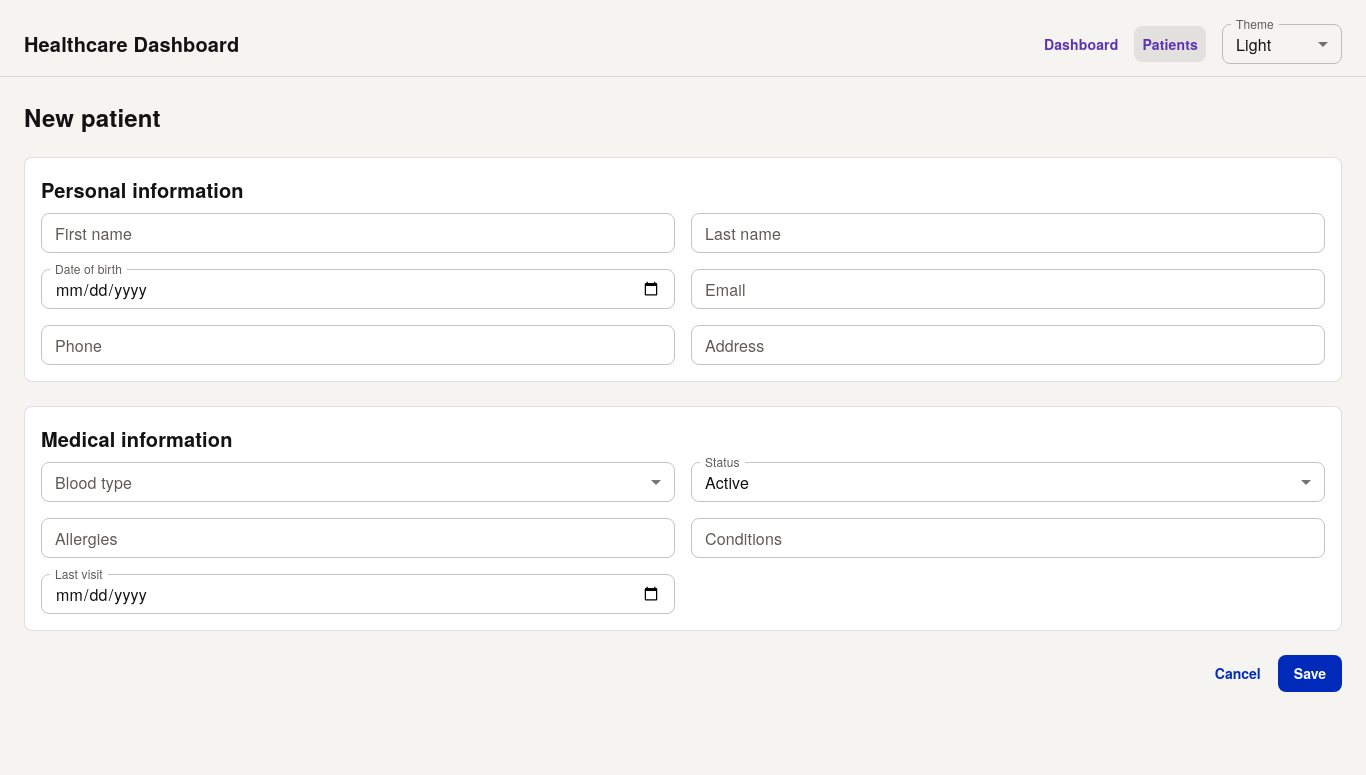
PatientForm › shows validation errors without submitting
This screenshot has width=1366, height=775.
Type "2999-01-01" into the date field labelled "Last visit" at (358, 594), box [41,574,675,614]
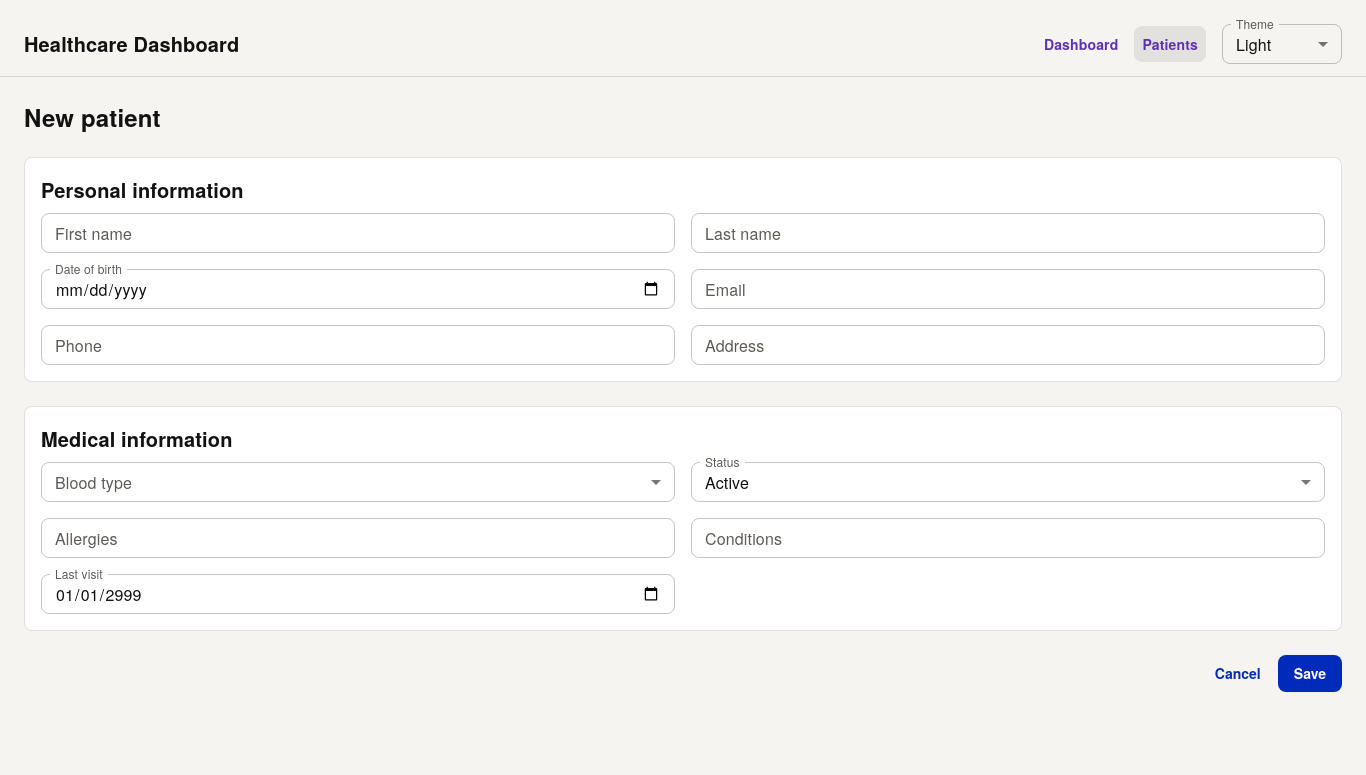
Click the button "Save" at (1310, 673), box [1278,655,1342,692]
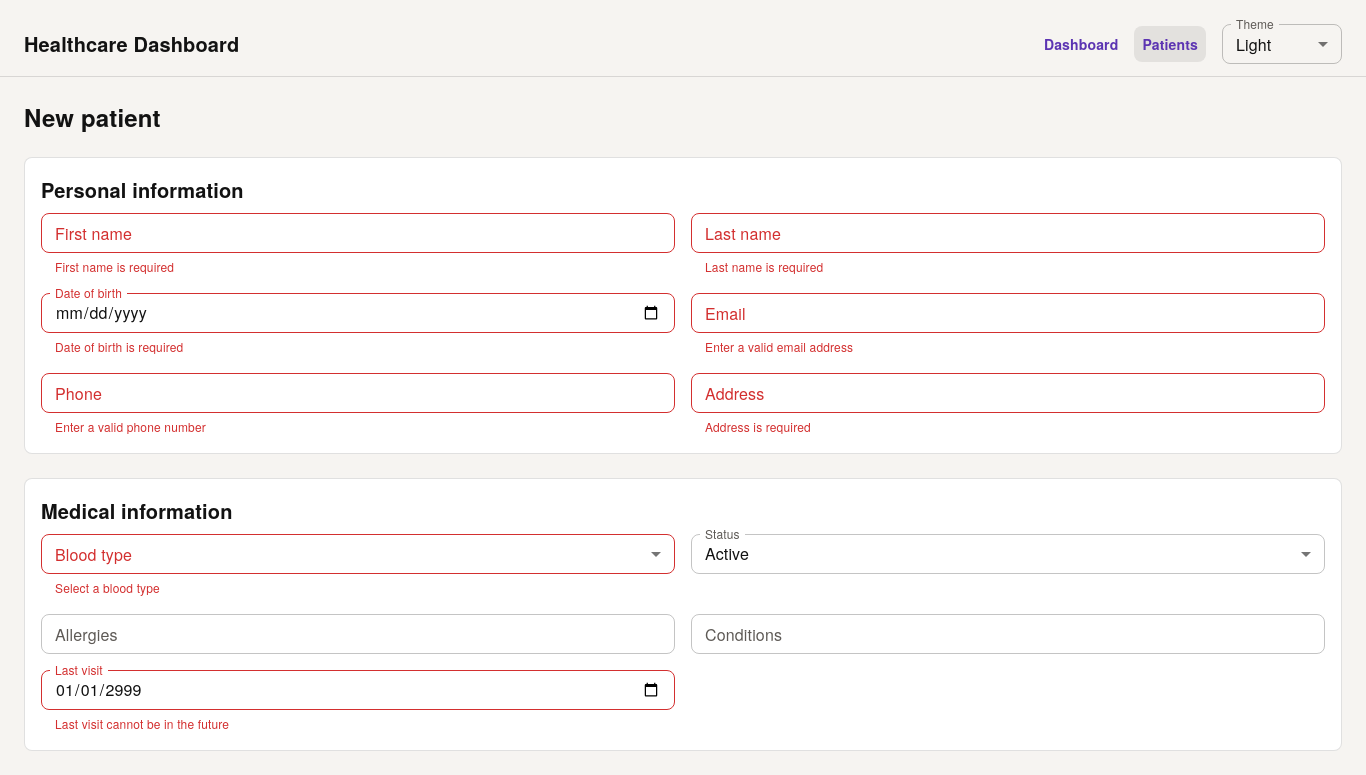
Expected: the text "First name is required" is shown, [55,258,174,275]
Expected: the text "Date of birth is required" is shown, [55,338,183,355]
Expected: the text "Enter a valid email address" is shown, [705,338,853,355]
